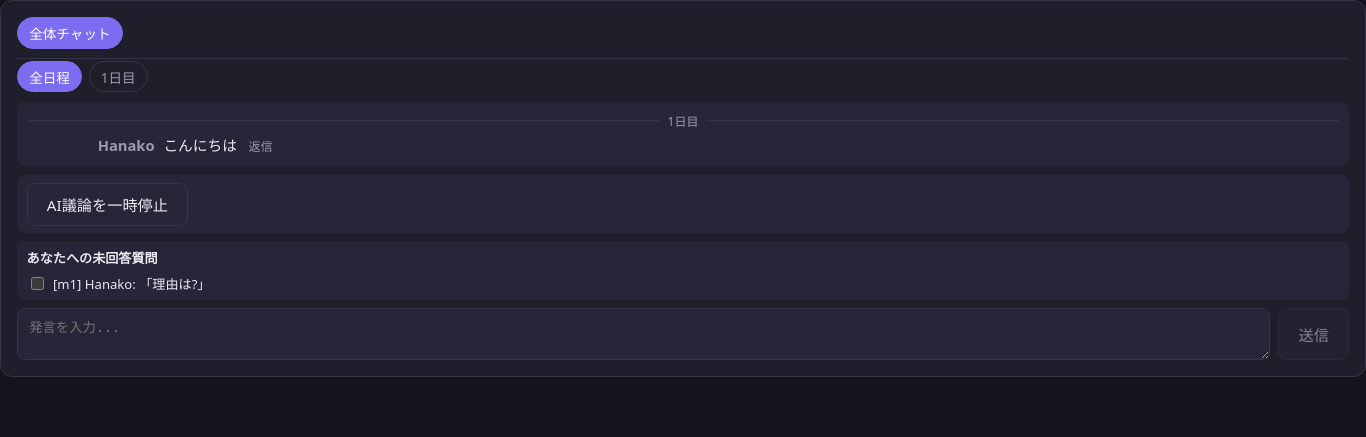
Test: ChatPanel › turns a pending question into a reply selection
What coordinates should you click on to do the following:
click the checkbox labelled "[m1] Hanako: 「理由は?」"
I would click on:
 (37, 284)
Its box is [31,277,44,290].
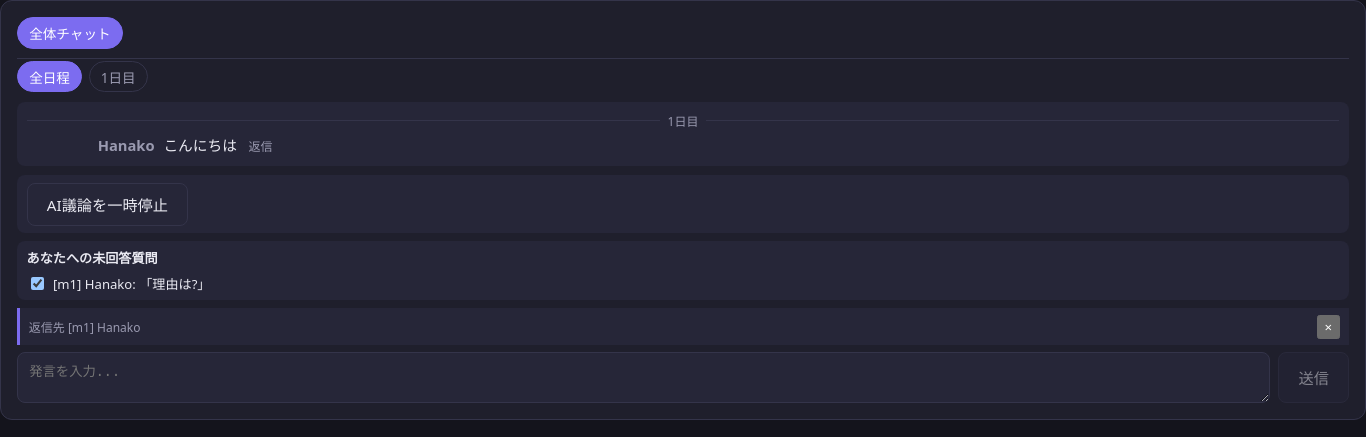
Expected: the text "返信先 [m1] Hanako" is shown, [29,318,140,336]
